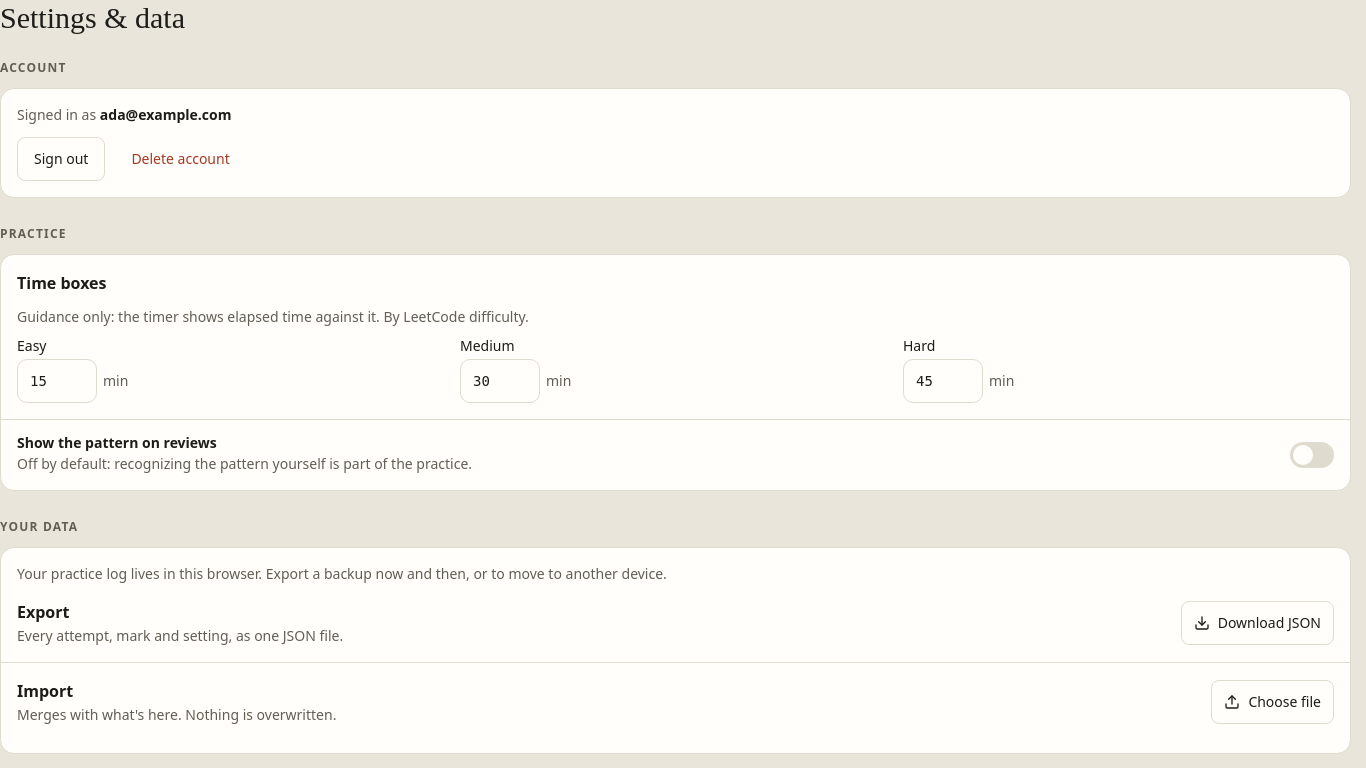
Test: SettingsPage account › asks before deleting the account, then deletes it and keeps the local log
What coordinates should you click on to do the following:
click the button "Delete account"
I would click on:
 (181, 159)
Its box is [115,137,246,181].
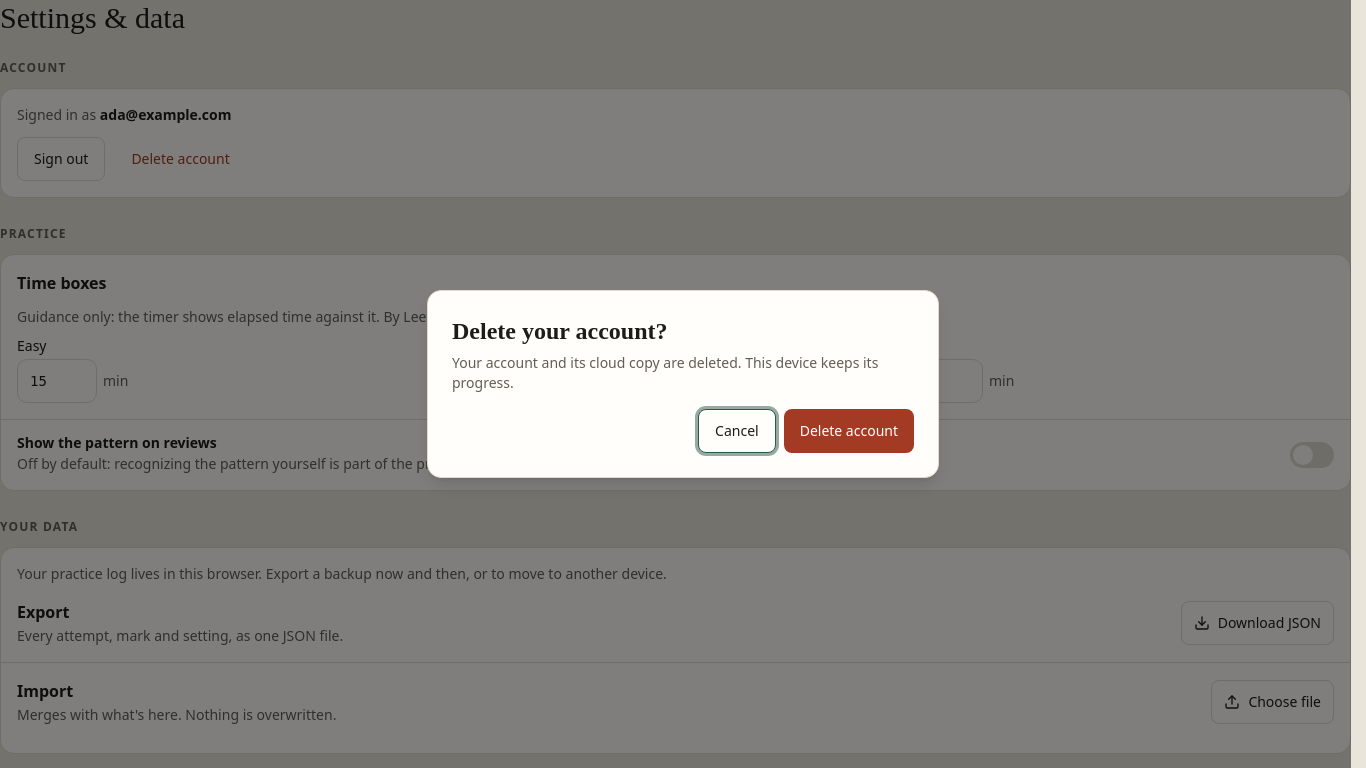
Now the dialog shows "Your account and its cloud copy are deleted. This device keeps its progress.", box [452,353,878,392]
What coordinates should you click on to do the following:
click the button "Delete account"
I would click on:
 (849, 431)
Its box is [784,409,914,453].
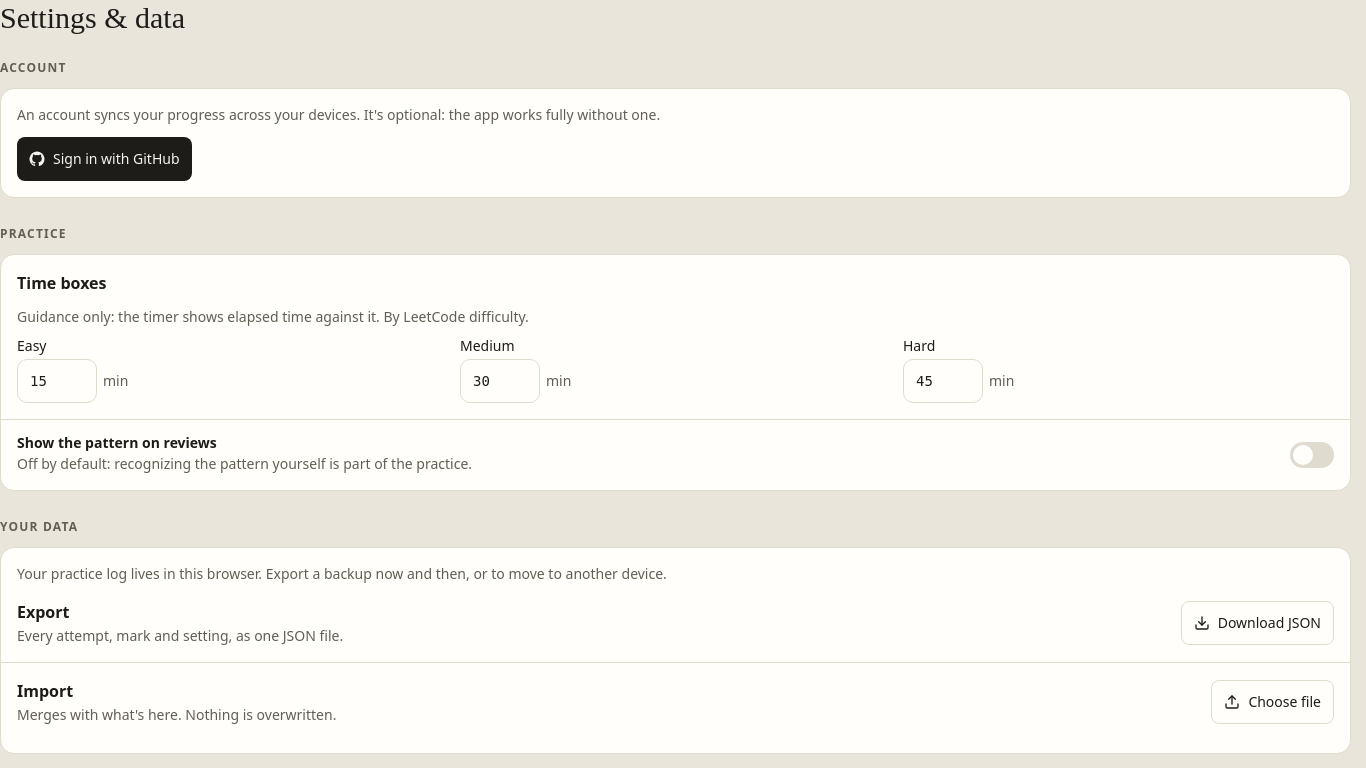
Now the button "Sign in with GitHub" is shown, box [17,137,192,181]
